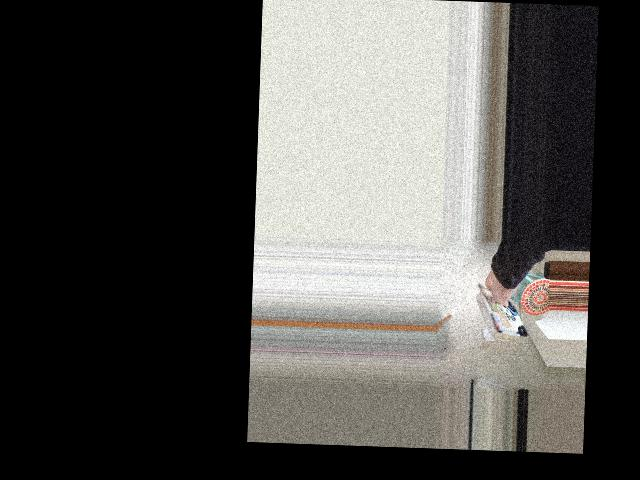cheese: (468, 270, 539, 343)
